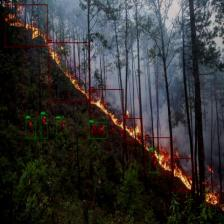fire: (49, 42, 90, 102), (5, 4, 47, 47), (90, 89, 123, 131), (145, 137, 172, 173), (173, 158, 193, 190), (124, 118, 142, 142), (202, 183, 220, 205)
